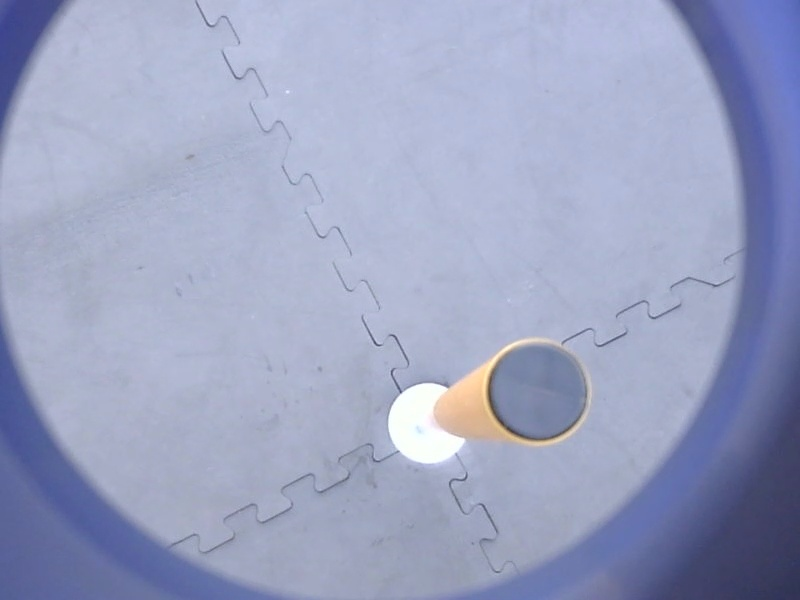tip: (479, 332, 598, 448)
